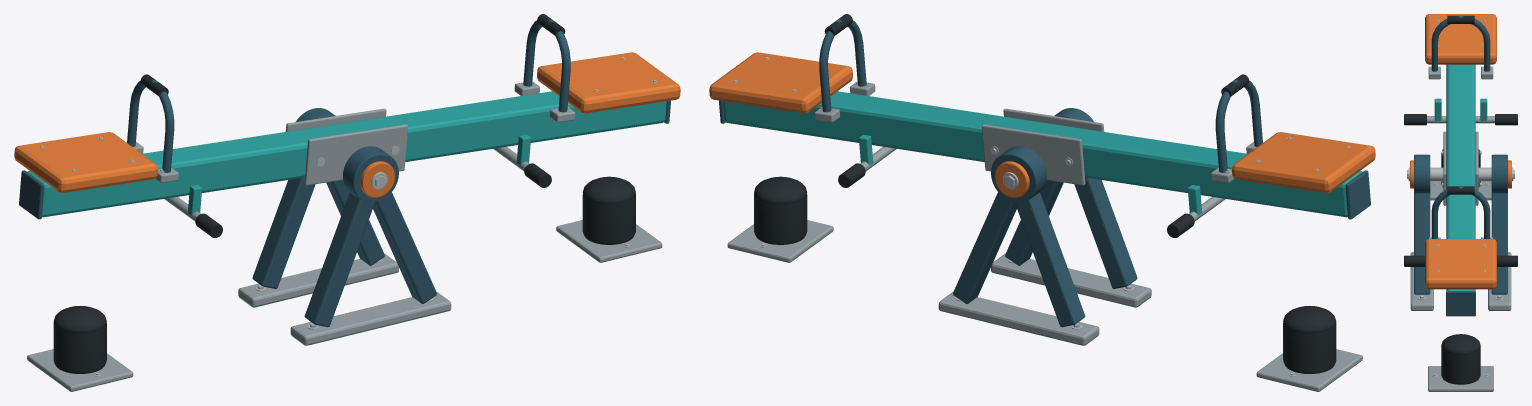
File: city-playground-seesaw.glb
3 views of the same model, side by side, from view 1: azimuth 30°, elevation 25°; view 2: azimuth 150°, elevation 25°; view 3: azimuth 270°, elevation 25° (orthographic). The views are drawn at different scales.
Visible parts, largest first — view 1: Assembly | Teal molded playground polymer, Assembly | Deep blue outdoor powder coat, Assembly | Galvanized mounting steel, Assembly | Warm orange coated metal, Assembly | Charcoal rubber and recesses, Assembly | Satin stainless hardware; view 2: Assembly | Teal molded playground polymer, Assembly | Deep blue outdoor powder coat, Assembly | Galvanized mounting steel, Assembly | Warm orange coated metal, Assembly | Charcoal rubber and recesses, Assembly | Satin stainless hardware; view 3: Assembly | Warm orange coated metal, Assembly | Deep blue outdoor powder coat, Assembly | Teal molded playground polymer, Assembly | Galvanized mounting steel, Assembly | Charcoal rubber and recesses, Assembly | Satin stainless hardware.
Part boxes in pixels (box(x1,y1,x2,y2)): Assembly | Teal molded playground polymer: box(27, 91, 666, 217); Assembly | Deep blue outdoor powder coat: box(19, 19, 670, 327); Assembly | Galvanized mounting steel: box(27, 82, 662, 391); Assembly | Warm orange coated metal: box(14, 52, 680, 197); Assembly | Charcoal rubber and recesses: box(53, 14, 635, 373); Assembly | Satin stainless hardware: box(39, 57, 656, 376); Assembly | Teal molded playground polymer: box(723, 91, 1362, 217); Assembly | Deep blue outdoor powder coat: box(719, 19, 1370, 327); Assembly | Galvanized mounting steel: box(727, 82, 1362, 391); Assembly | Warm orange coated metal: box(709, 52, 1375, 197); Assembly | Charcoal rubber and recesses: box(754, 14, 1336, 373); Assembly | Satin stainless hardware: box(733, 57, 1350, 376); Assembly | Warm orange coated metal: box(1410, 14, 1511, 289); Assembly | Deep blue outdoor powder coat: box(1414, 15, 1507, 316); Assembly | Teal molded playground polymer: box(1434, 64, 1487, 290); Assembly | Galvanized mounting steel: box(1410, 66, 1511, 391); Assembly | Charcoal rubber and recesses: box(1404, 15, 1517, 384); Assembly | Satin stainless hardware: box(1407, 19, 1514, 377).
Size of the model in its own units: 2.8 by 1.14 by 0.588.
